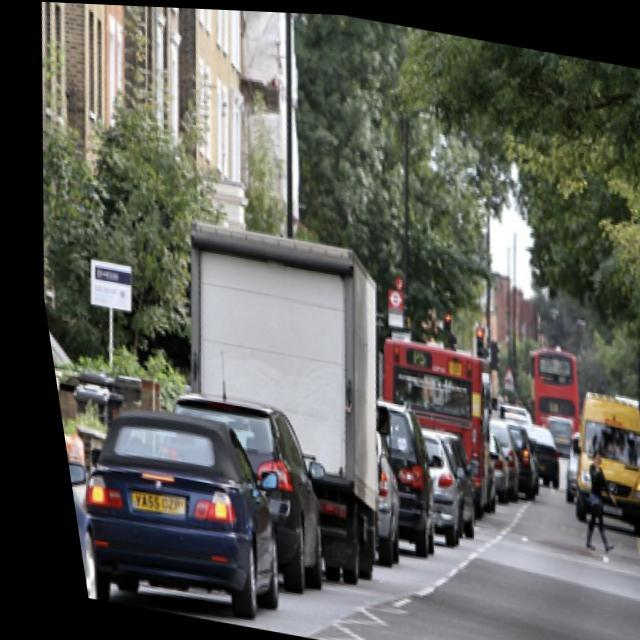license_plate: (112, 482, 174, 520)
